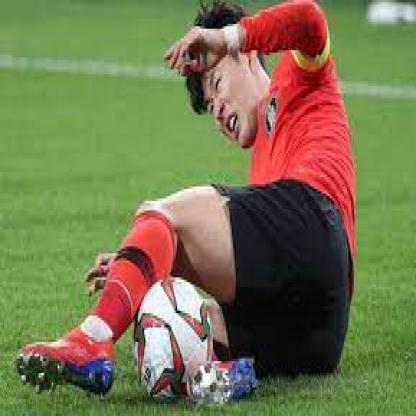Fall_Down: (17, 3, 357, 407)
